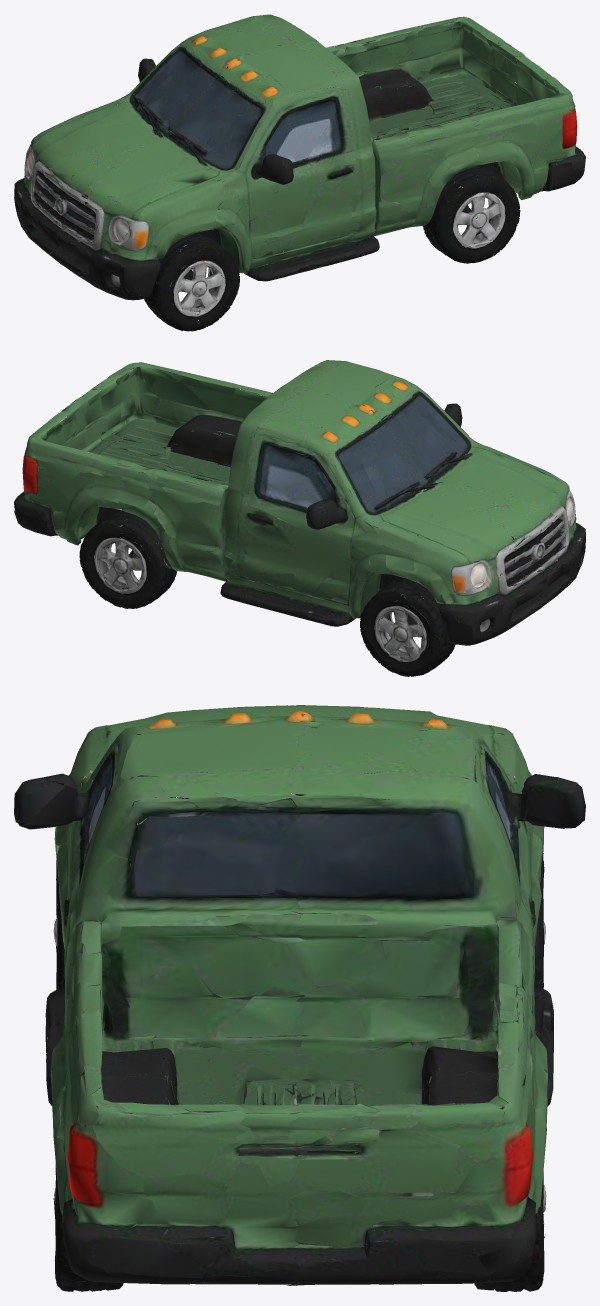
File: truck_pickup.glb
3 renders of one model, top to bottom at view 1: azimuth 30°, elevation 25°; view 2: azimuth 150°, elevation 25°; view 3: azimuth 270°, elevation 25°, orthographic. The views are drawn at different scales.
Parts seen in each view (by area): view 1: Mesh_0; view 2: Mesh_0; view 3: Mesh_0.
Boxes of the visible parts, x1,y1,x2,y2 form: Mesh_0: (14, 14, 585, 331); Mesh_0: (14, 360, 585, 676); Mesh_0: (14, 705, 585, 1291).
Size of the model in its own units: 4.6 by 1.88 by 2.45.
1 material, 1 textured.
